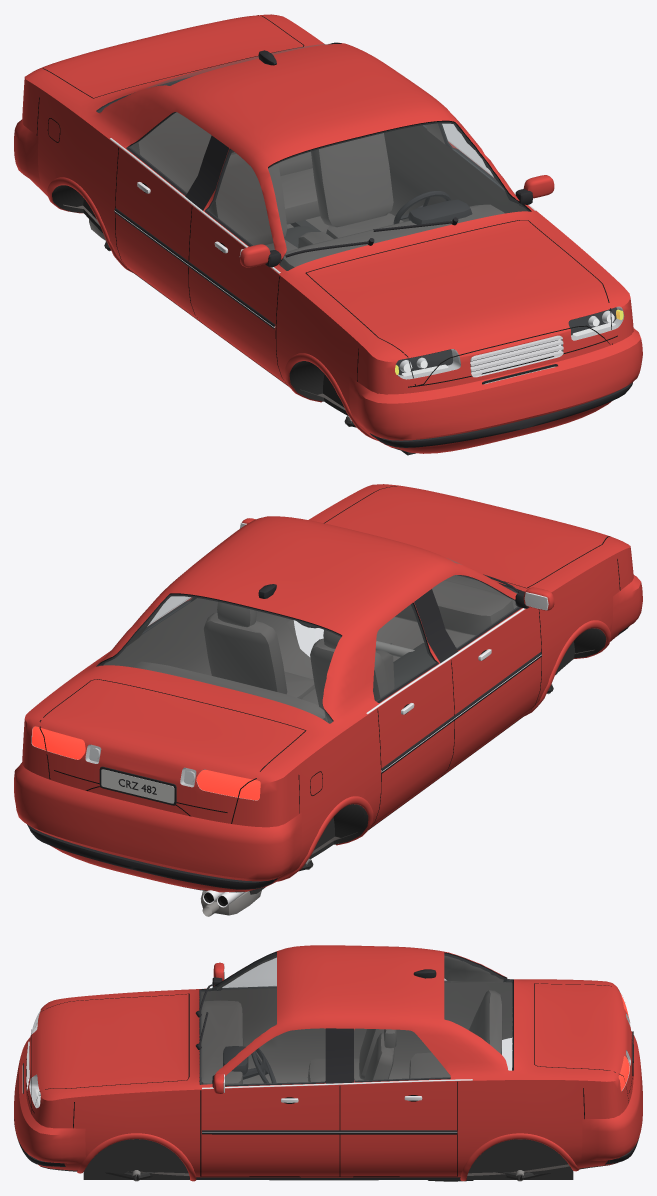
File: sedan.glb
The picture shows the model from 3 angles, top to bottom: view 1: azimuth 30°, elevation 25°; view 2: azimuth 150°, elevation 25°; view 3: azimuth 270°, elevation 25°; orthographic projection. The views are drawn at different scales.
Visible parts, largest first — view 1: Body, Glass_Front, Glass_F_R, Glass_B_R, Glass_F_L; view 2: Body, Glass_Rear, Glass_F_R, Glass_B_R; view 3: Body, Glass_Front, Glass_Rear, Glass_F_L, Glass_B_L, Glass_F_R.
Part boxes in pixels (x1,y1,x2,y2): Body: [14, 14, 642, 455]; Glass_Front: [268, 122, 529, 270]; Glass_F_R: [208, 150, 274, 250]; Glass_B_R: [129, 112, 210, 193]; Glass_F_L: [441, 124, 503, 189]; Body: [14, 484, 642, 916]; Glass_Rear: [99, 594, 341, 723]; Glass_F_R: [432, 575, 518, 648]; Glass_B_R: [373, 603, 435, 701]; Body: [14, 945, 642, 1181]; Glass_Front: [200, 953, 276, 1084]; Glass_Rear: [444, 954, 512, 1070]; Glass_F_L: [225, 1028, 325, 1084]; Glass_B_L: [354, 1029, 450, 1080]; Glass_F_R: [222, 958, 276, 988].
Size of the model in its own units: 2.23 by 1.62 by 4.88.
